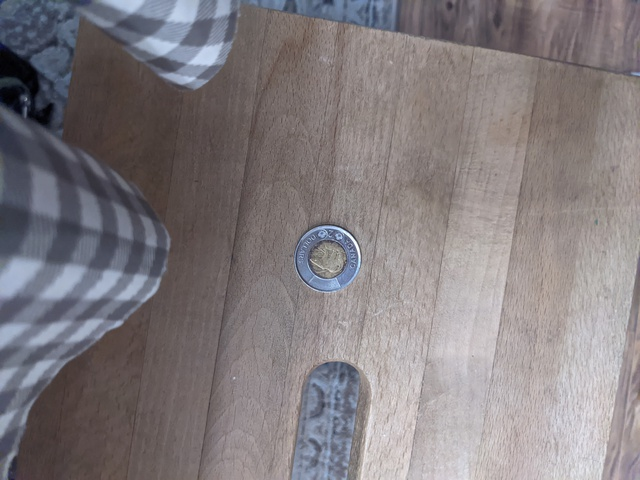twonie: (289, 219, 365, 289)
